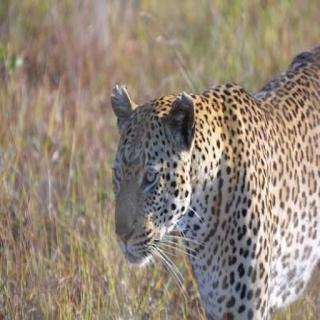Leopard: (72, 69, 320, 320)
